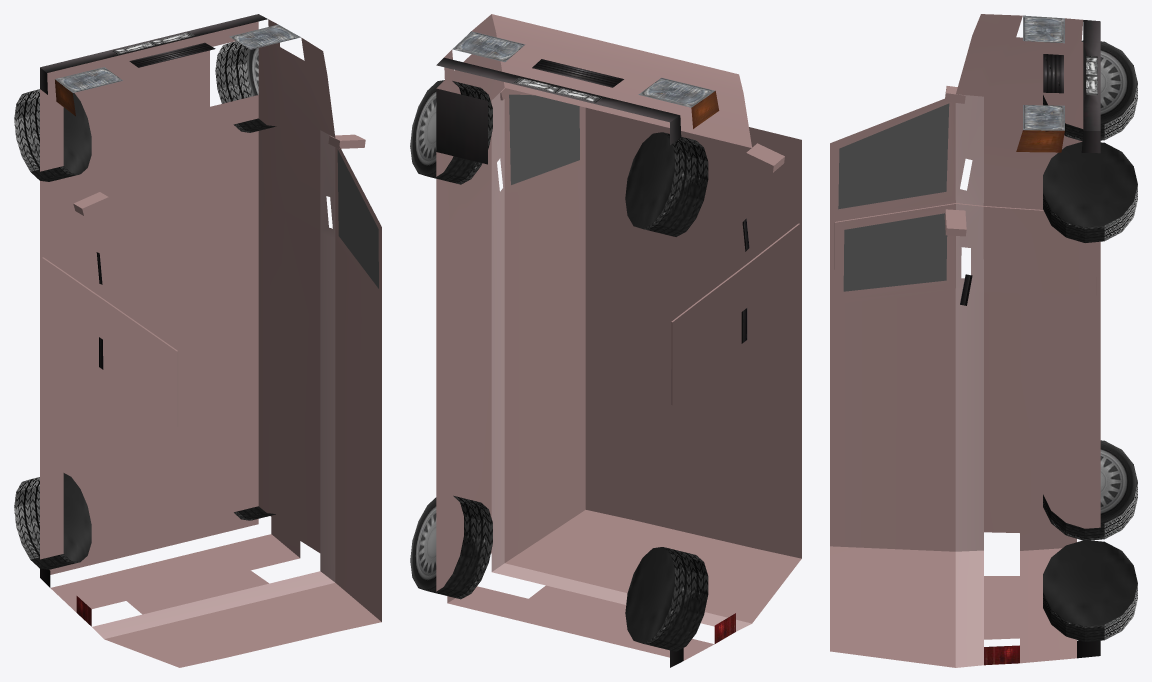
Rendered from minivan.gltf.
3 renders of one model, left to right at view 1: azimuth 30°, elevation 25°; view 2: azimuth 150°, elevation 25°; view 3: azimuth 270°, elevation 25°, orthographic. The views are drawn at different scales.
Parts seen in each view (by area): view 1: pCube4, WheelRL014, WheelRL013, WheelRL011, pCube2; view 2: pCube4, WheelRL014, WheelRL013, WheelRL012, WheelRL011, pCube2; view 3: pCube4, WheelRL012, WheelRL011, WheelRL014, WheelRL013, pCube3.
Boxes of the visible parts, bbox=[...] form: pCube4: bbox=[40, 14, 381, 667]; WheelRL014: bbox=[14, 473, 91, 569]; WheelRL013: bbox=[14, 89, 91, 181]; WheelRL011: bbox=[215, 41, 276, 132]; pCube2: bbox=[73, 192, 110, 215]; pCube4: bbox=[436, 14, 801, 667]; WheelRL014: bbox=[625, 547, 708, 651]; WheelRL013: bbox=[625, 132, 708, 236]; WheelRL012: bbox=[410, 495, 492, 599]; WheelRL011: bbox=[410, 80, 492, 184]; pCube2: bbox=[745, 143, 784, 172]; pCube4: bbox=[830, 14, 1100, 667]; WheelRL012: bbox=[1043, 540, 1137, 641]; WheelRL011: bbox=[1043, 141, 1137, 242]; WheelRL014: bbox=[1043, 440, 1137, 540]; WheelRL013: bbox=[1043, 40, 1137, 141]; pCube3: bbox=[944, 209, 966, 236].
Bounding box in the file's own units: 0.7175 × 1.26 × 0.6557.
Materials: 7 (4 with a texture image).
